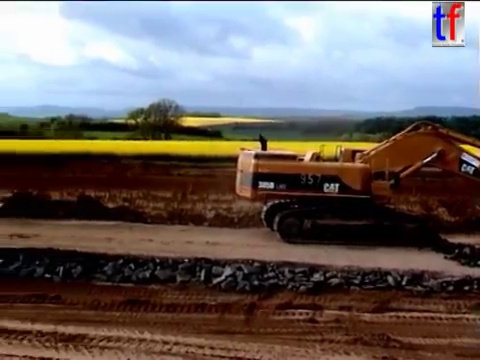excavator: (231, 118, 480, 249)
